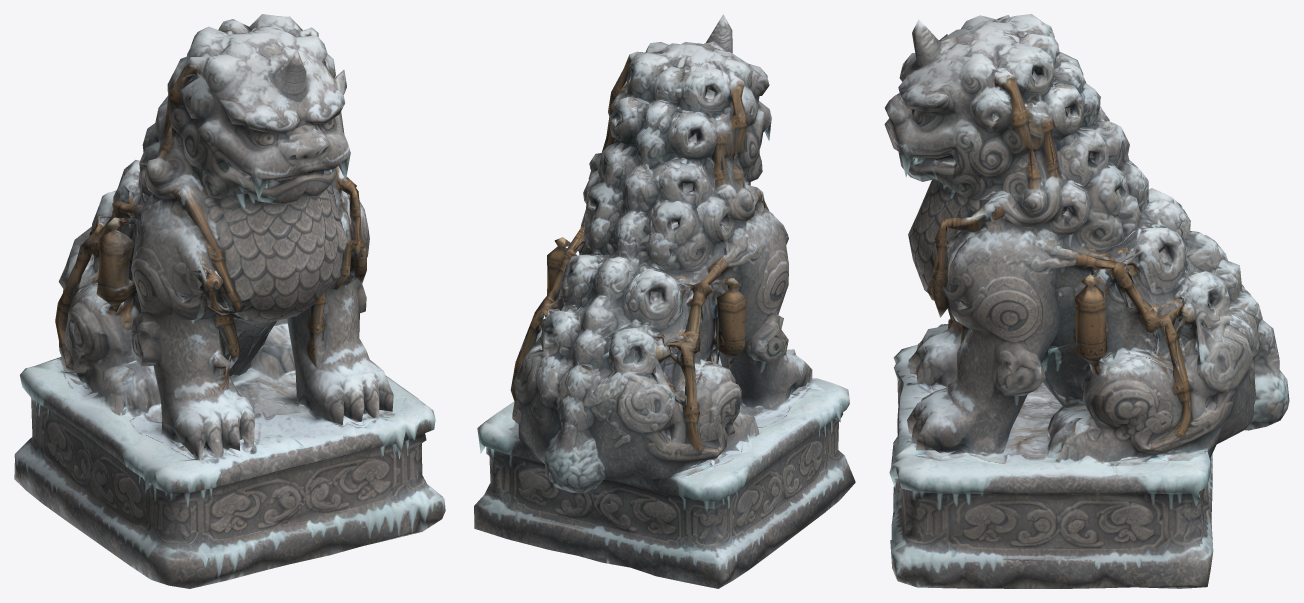
File: PR_Haetae.fbx
3 renders of one model, left to right at view 1: azimuth 30°, elevation 25°; view 2: azimuth 150°, elevation 25°; view 3: azimuth 270°, elevation 25°, orthographic. The views are drawn at different scales.
Visible parts, largest first — view 1: texture_mapping; view 2: texture_mapping; view 3: texture_mapping.
Part boxes in pixels (<box>): texture_mapping: <box>14,14,445,588</box>; texture_mapping: <box>474,14,855,588</box>; texture_mapping: <box>884,14,1289,588</box>.
Bounding box in the file's own units: 0.5833 × 0.7234 × 0.9973.
1 material, 1 textured.
